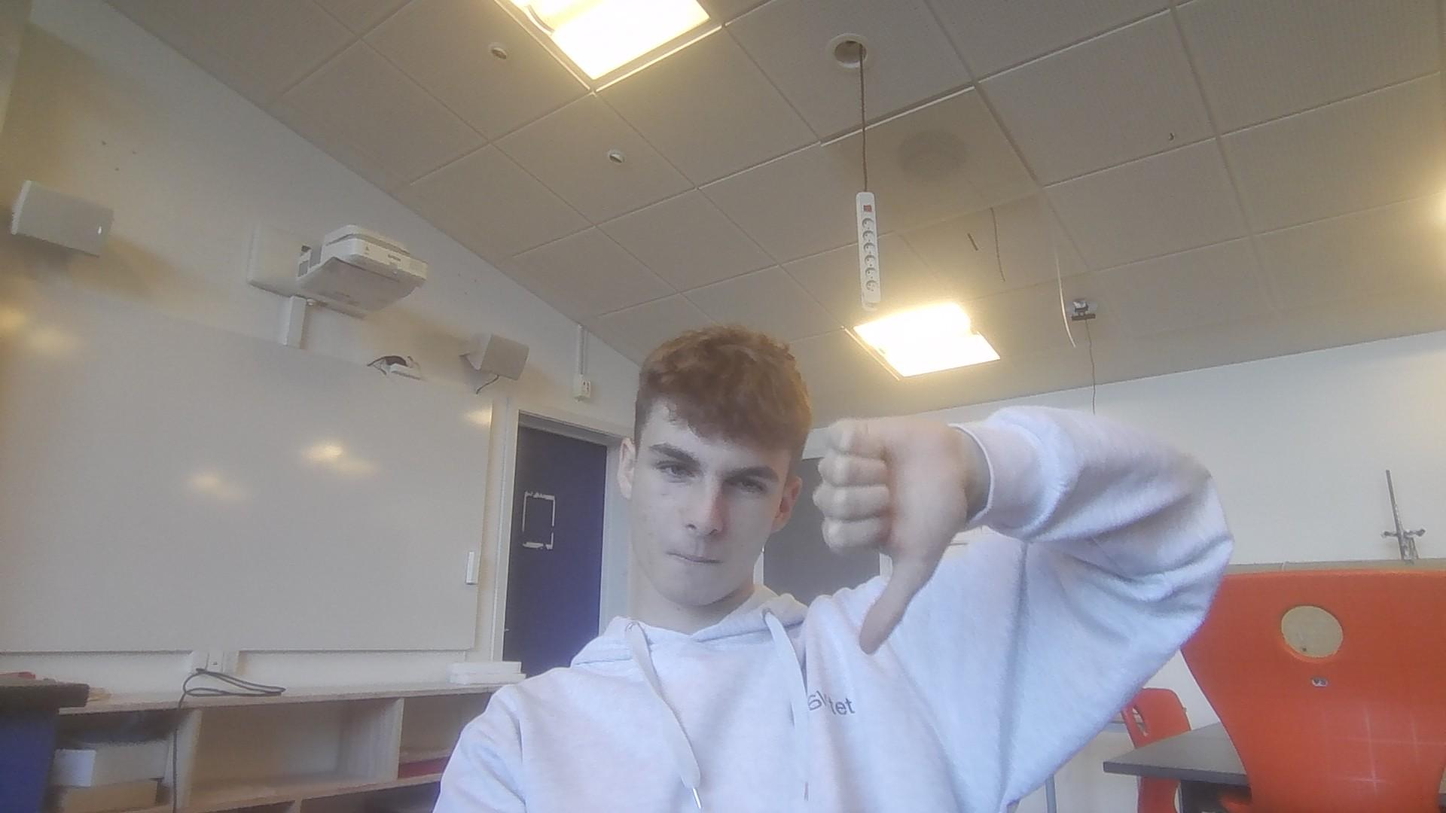thumbs down: (817, 412, 968, 657)
